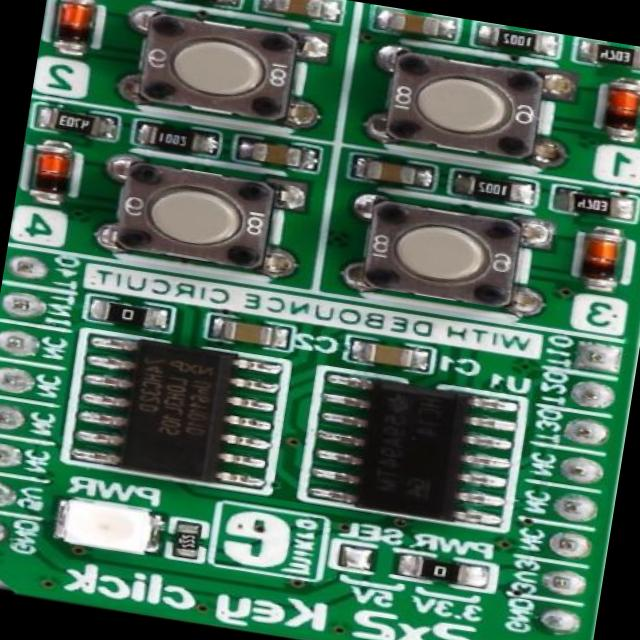IC: (324, 369, 496, 522), (98, 334, 255, 486)
LED: (52, 497, 160, 562)
capacitor: (348, 334, 424, 368), (379, 10, 448, 40), (216, 318, 282, 348), (264, 0, 337, 21), (360, 158, 416, 184), (247, 142, 300, 168)
diode: (573, 227, 625, 287), (27, 143, 76, 200), (597, 78, 640, 138), (49, 0, 98, 48)
resistor: (404, 556, 471, 588), (142, 125, 208, 152), (581, 42, 640, 72), (488, 30, 548, 59), (46, 112, 100, 138), (100, 304, 158, 327), (574, 193, 624, 216), (169, 523, 199, 559), (470, 176, 515, 200)
